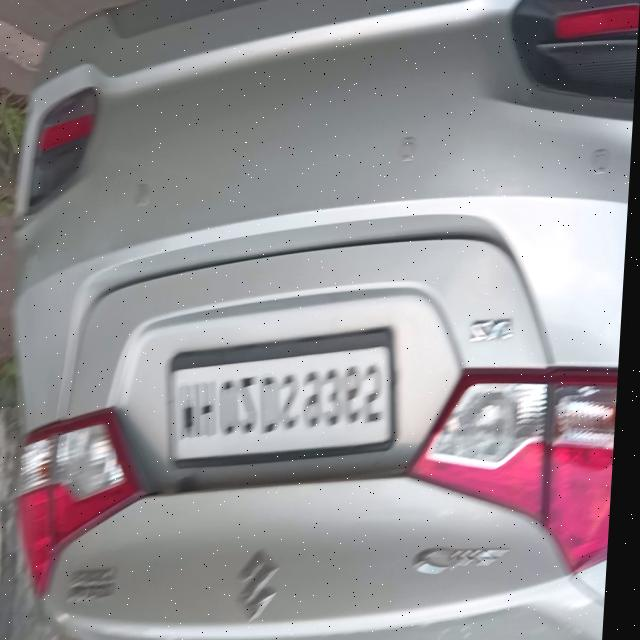plate: (166, 325, 408, 472)
